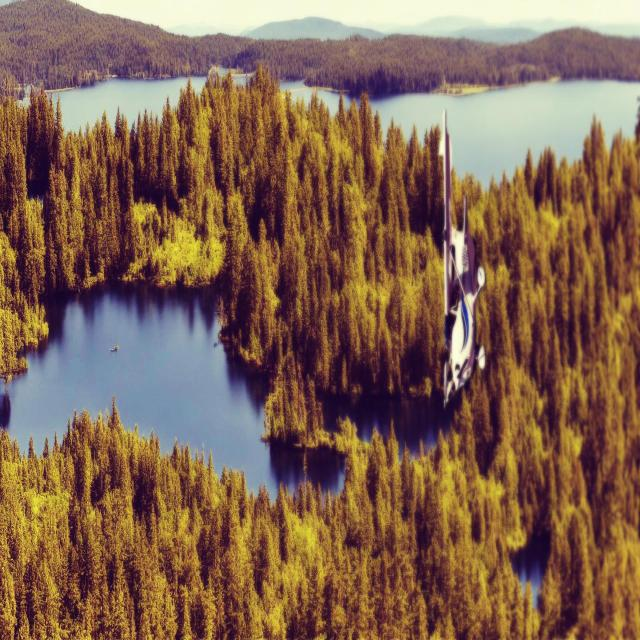airplane: (438, 108, 486, 409)
